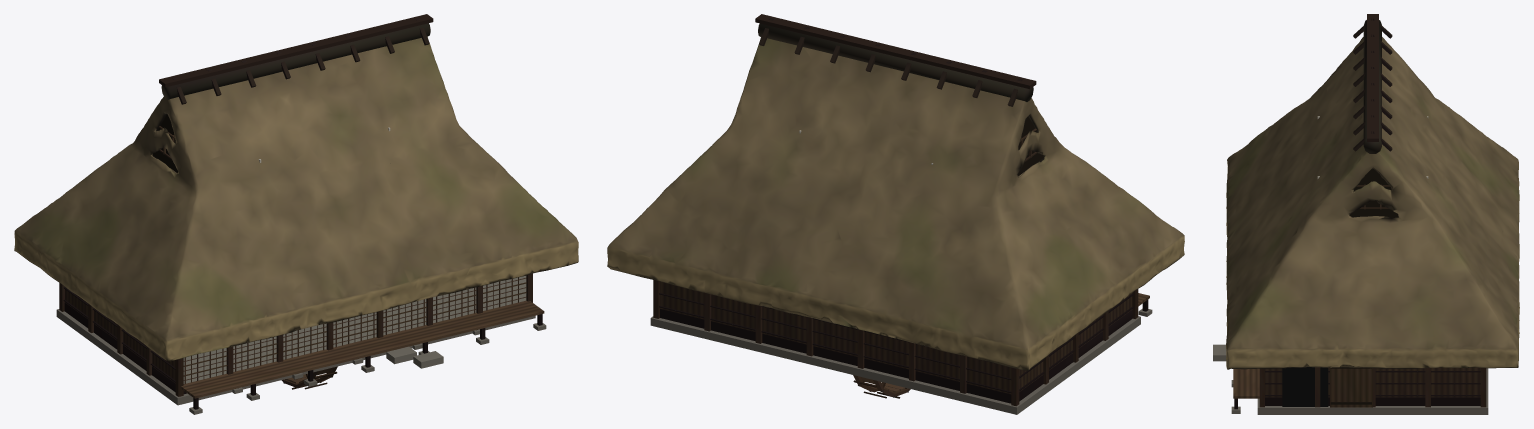
The model's file is village-ultra.glb.
3 renders of one model, left to right at view 1: azimuth 30°, elevation 25°; view 2: azimuth 150°, elevation 25°; view 3: azimuth 270°, elevation 25°, orthographic. The views are drawn at different scales.
Parts seen in each view (by area): view 1: minka0_near, minka1_near, suisha_wheel_near; view 2: minka0_near, suisha_wheel_near; view 3: minka0_near.
Part boxes in pixels (bbox=[...]): minka0_near: bbox=[14, 14, 578, 414]; minka1_near: bbox=[170, 168, 479, 393]; suisha_wheel_near: bbox=[281, 366, 337, 389]; minka0_near: bbox=[607, 14, 1184, 414]; suisha_wheel_near: bbox=[853, 375, 910, 398]; minka0_near: bbox=[1213, 14, 1519, 414].
Bounding box in the file's own units: 14.86 × 11.4 × 9.98.
